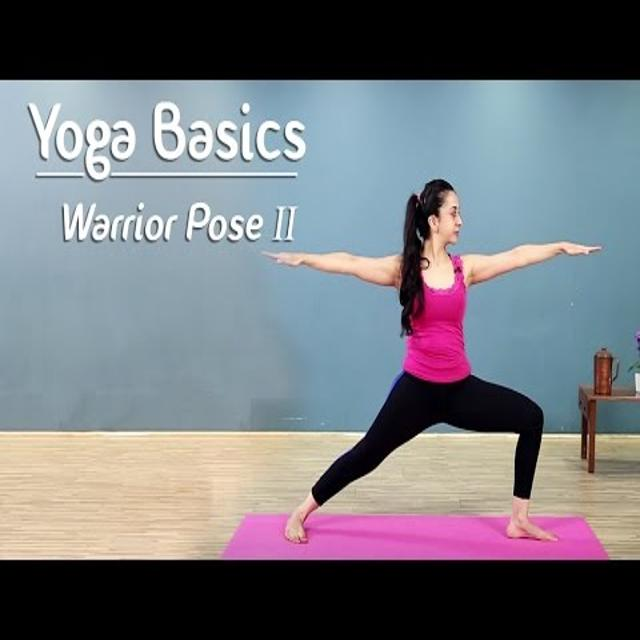Warrior_II: (266, 182, 603, 549)
